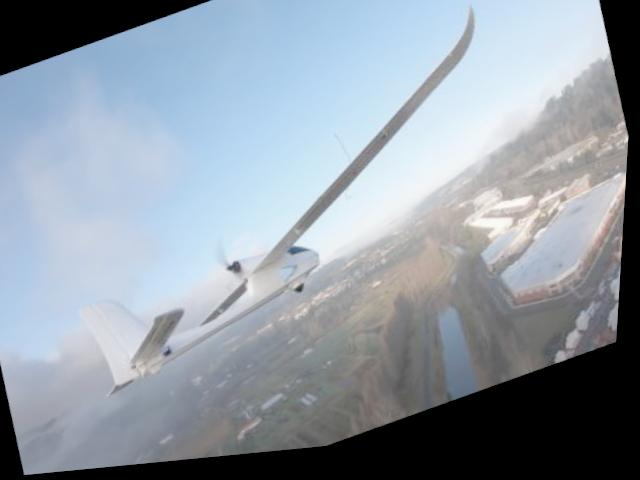uav: (30, 0, 553, 416)
